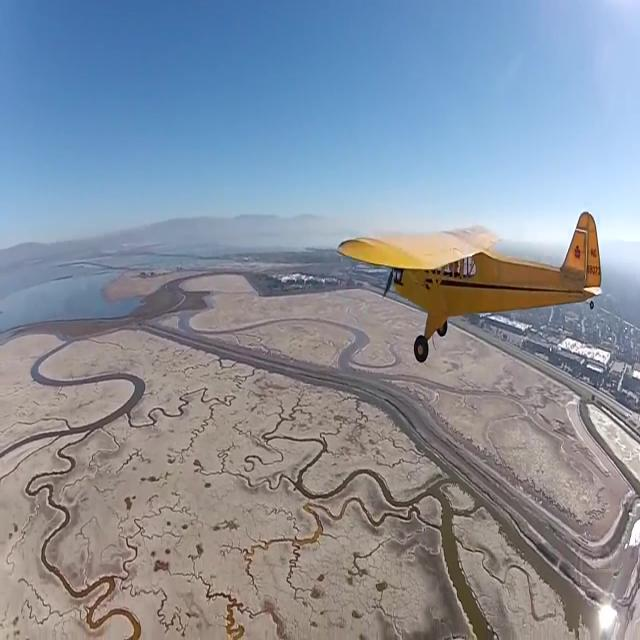iha: (340, 208, 601, 366)
